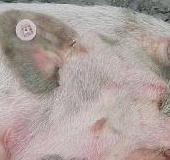text: (8, 12, 45, 47)
